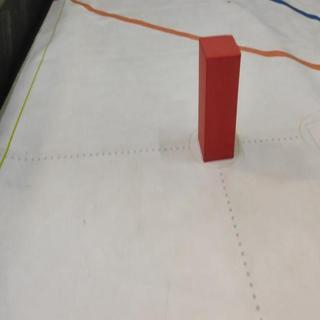redbox: (197, 33, 242, 163)
